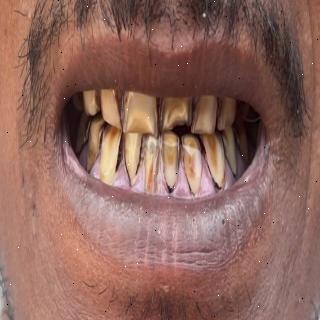LL1BC_sdecay: (221, 130, 238, 178)
LLCI_sdecay: (162, 132, 180, 193)
LLC_sdecay: (199, 135, 226, 191)
LLLI_sdecay: (181, 134, 203, 197)
LR1BC_sdecay: (87, 118, 106, 169)
LRCI_sdecay: (143, 136, 160, 193)
LRC_sdecay: (99, 127, 122, 180)
LRLI_sdecay: (123, 132, 141, 186)
ULCI_sdecay: (162, 95, 192, 131)
ULC_sdecay: (217, 97, 236, 131)
ULLI_sdecay: (192, 95, 217, 135)
URCI_sdecay: (121, 90, 160, 137)
URC_sdecay: (82, 90, 99, 115)
URLI_sdecay: (99, 89, 122, 129)
